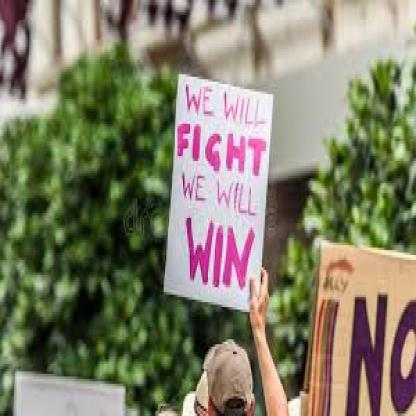BANNER: (162, 74, 275, 314)
